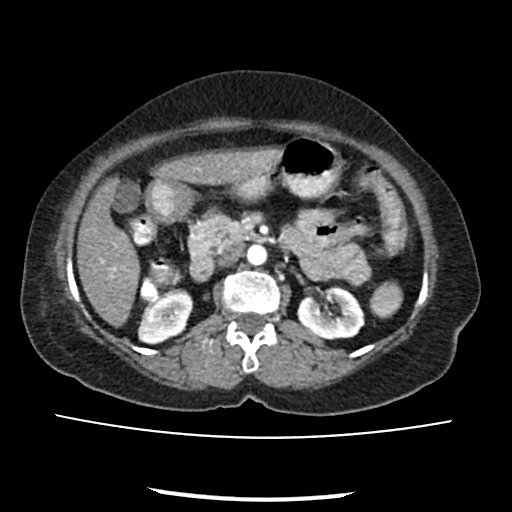aorta: (244, 242, 269, 266)
